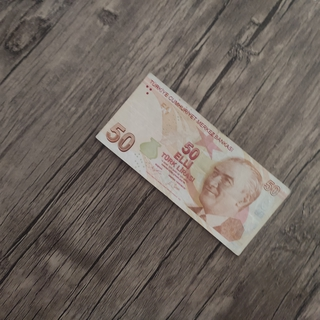50TLFront: (95, 71, 291, 257)
